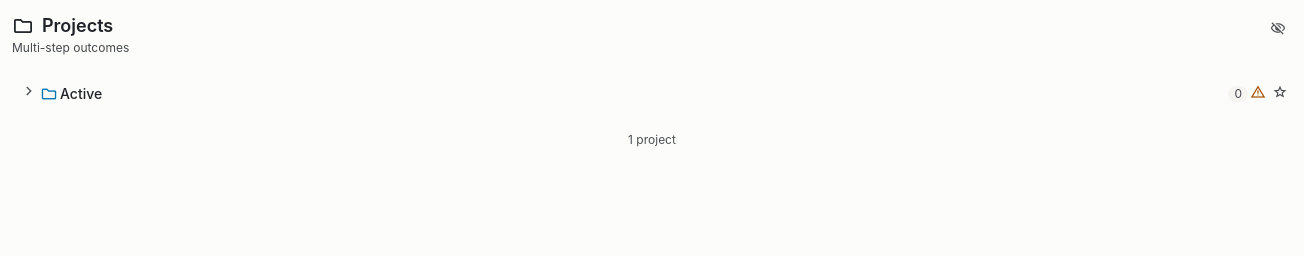
ProjectTree › hides non-active projects after toggling off
Step 1. Click the button named "Show all projects" → click(1278, 30), box [1264,12,1292,48]
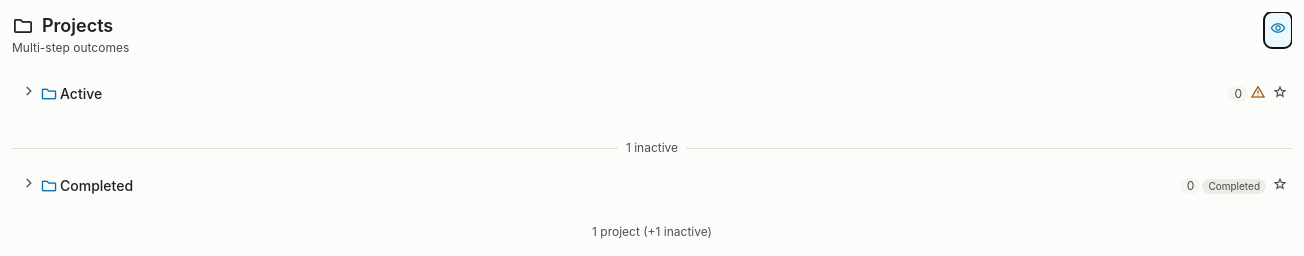
Expected: the button "Completed" is shown, [60,176,1131,196]
Step 2. Click the button named "Show active only" → click(1278, 30), box [1264,12,1292,48]
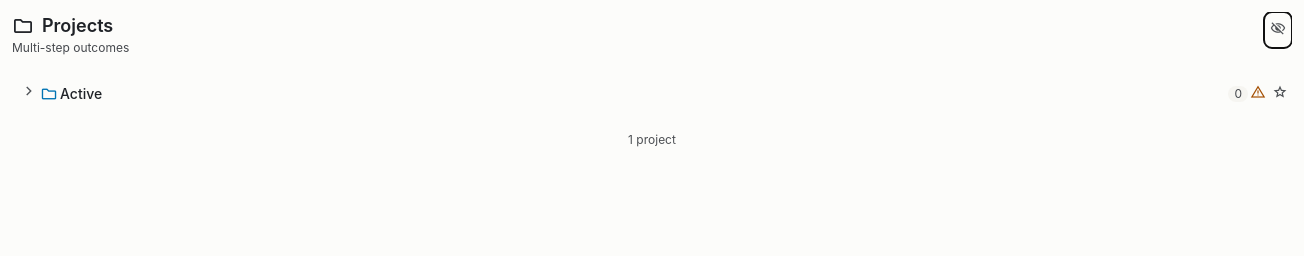
Expected: the button "Completed" is gone
